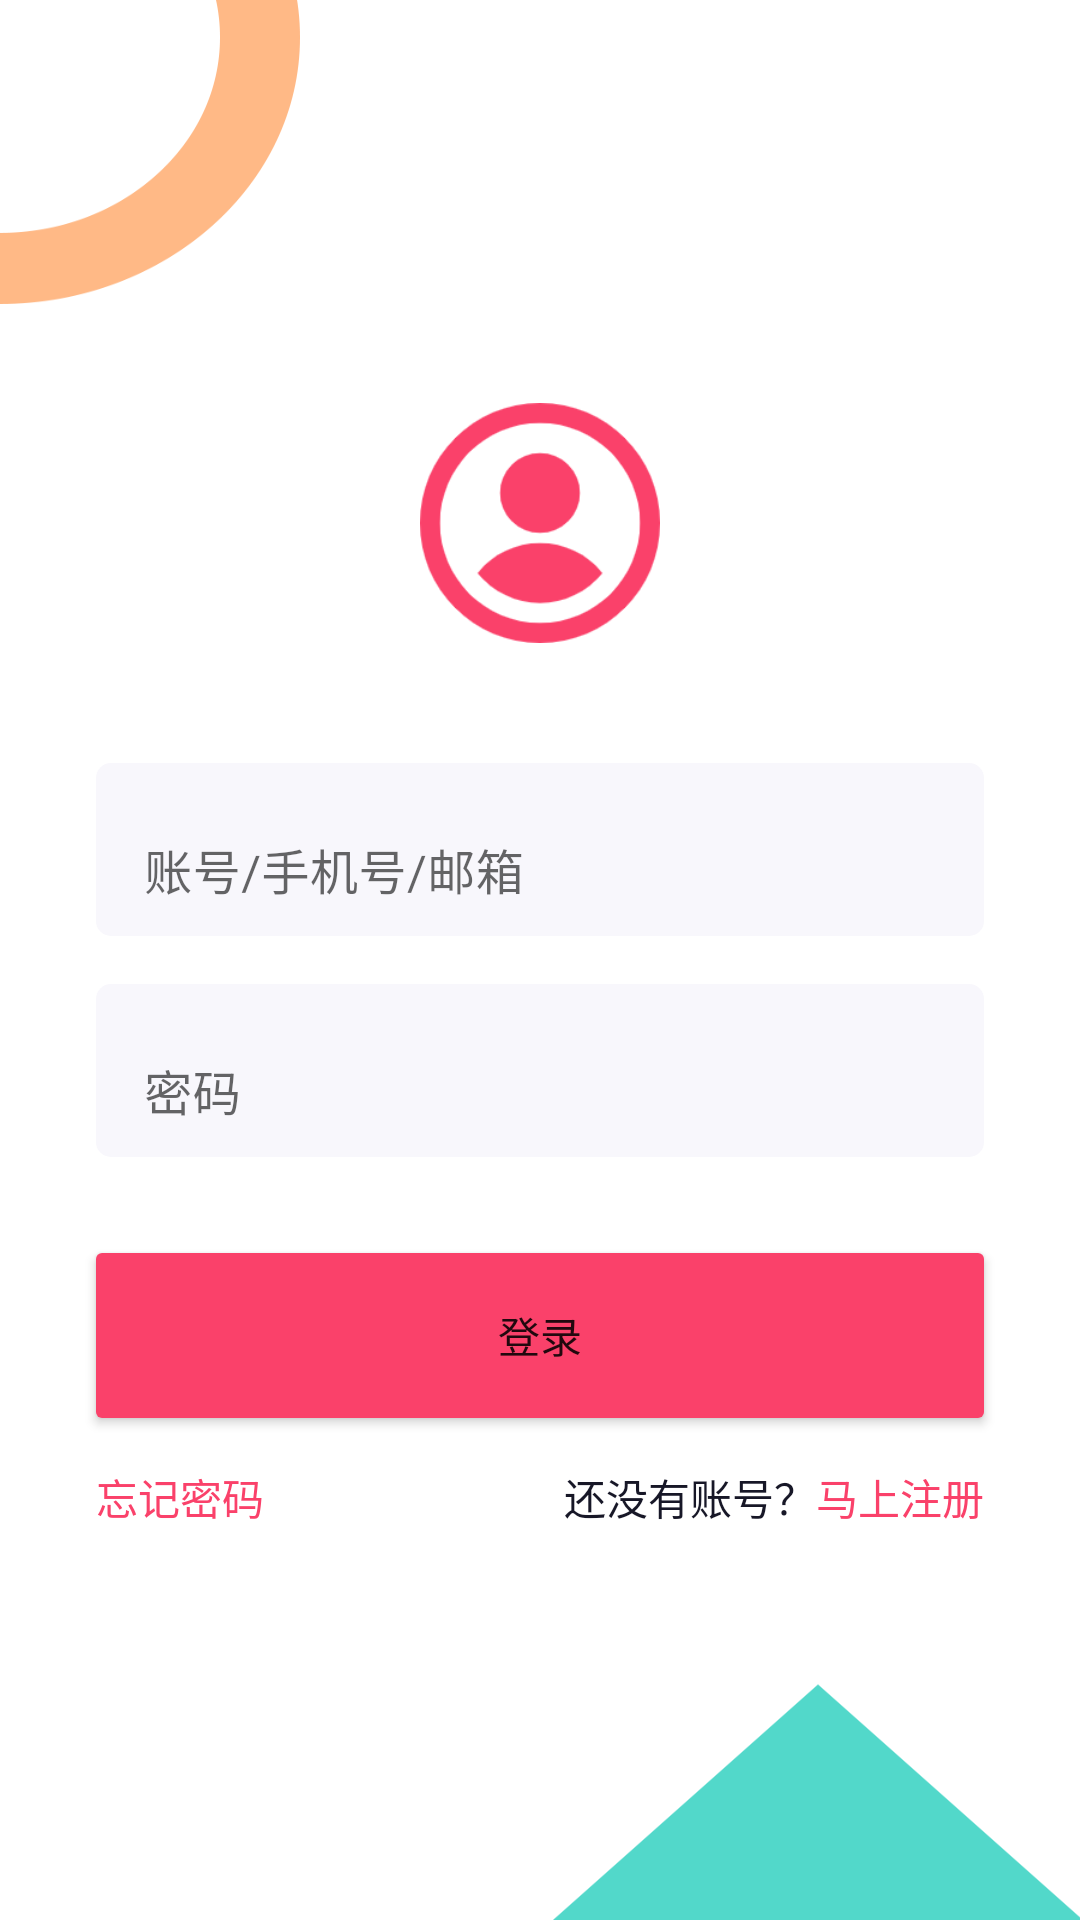

Icon bounding boxes for this 1080px x 1920px phone screenshot, format (x1=x1, y1=y1, x2=x2, y2=y2):
user head: (x1=420, y1=403, x2=660, y2=643)
